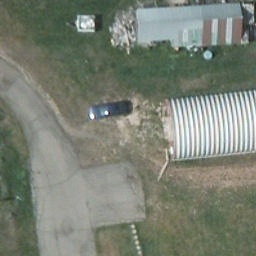car: (86, 102, 132, 120)
